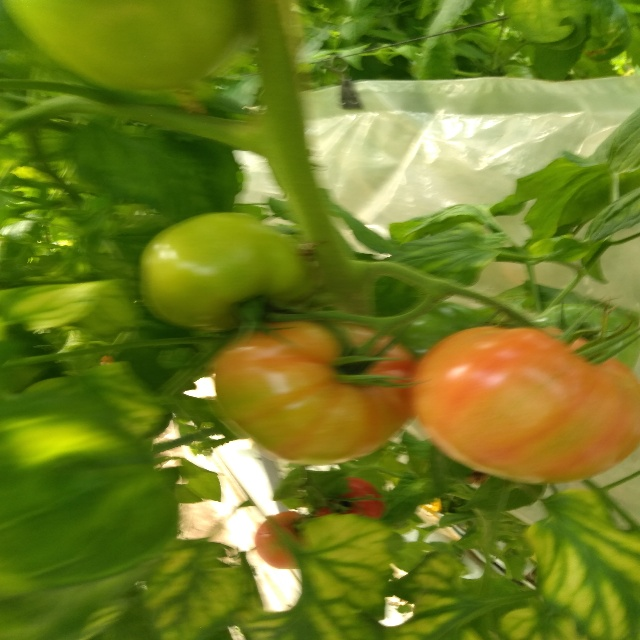b_fully_ripened: (313, 477, 384, 521)
b_green: (2, 0, 258, 94), (140, 212, 312, 333), (523, 303, 639, 372), (389, 302, 501, 360)
b_half_ripened: (411, 326, 640, 486), (214, 320, 417, 464), (255, 511, 309, 569)
